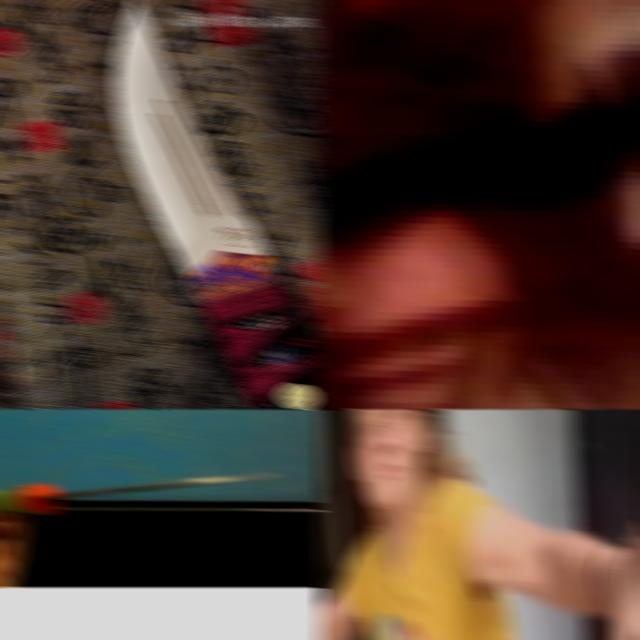Knife: (0, 474, 282, 516)
Knife_Handle: (316, 0, 640, 258)
